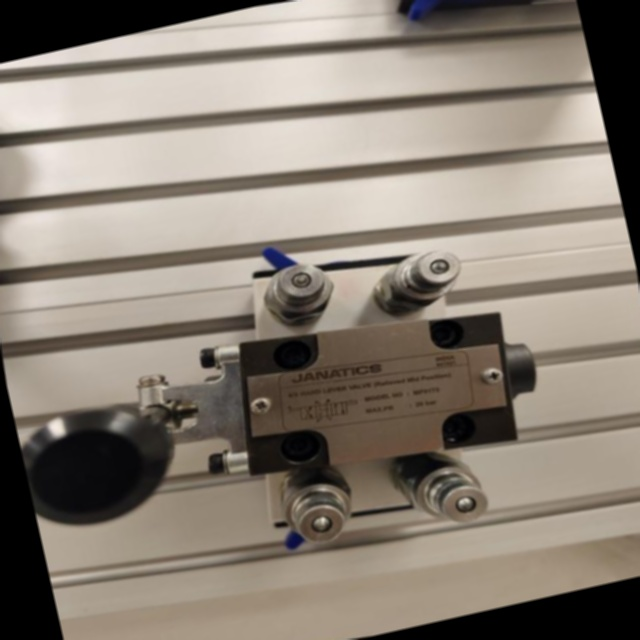4by3 hand lever valve: (0, 164, 589, 638)
